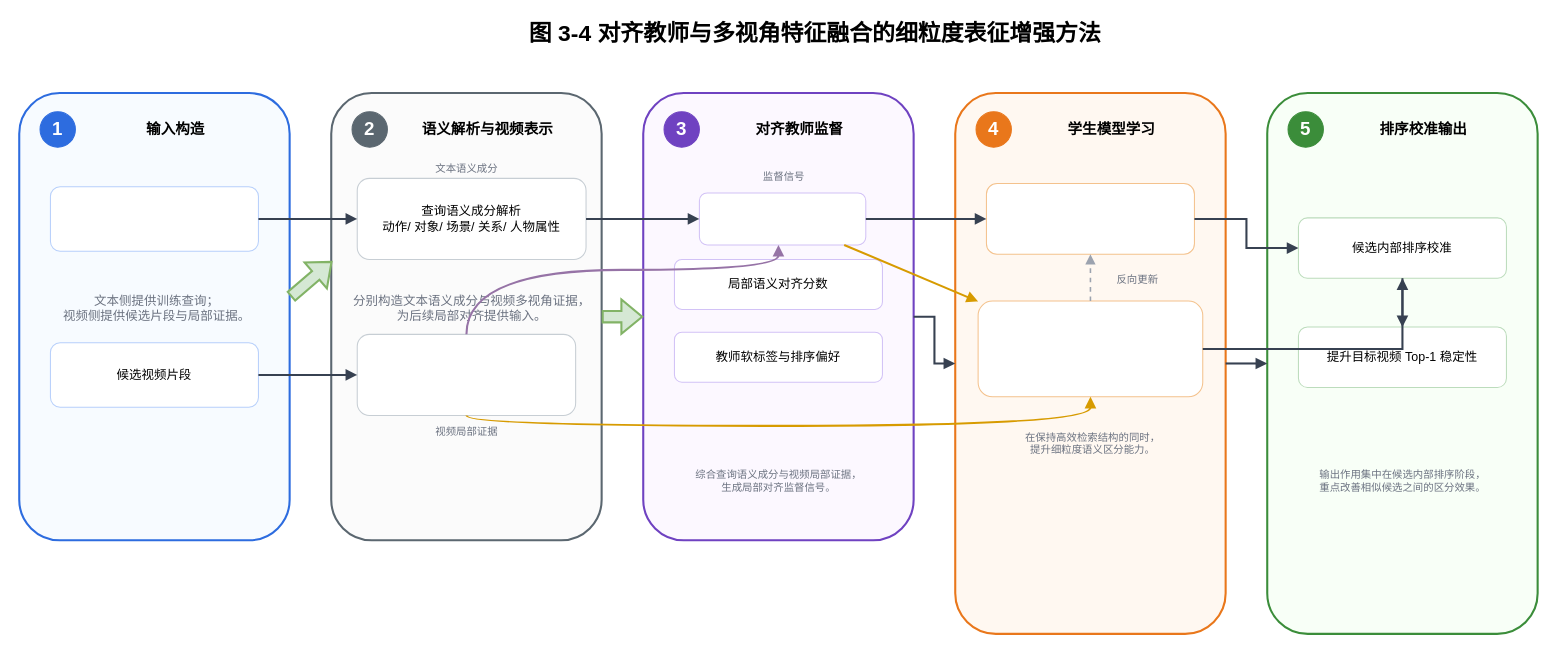
Image size: 1556x652. Some labels were removed from this diagram. Each missing label, with the centre of its shape:
"多视角视频表示 全局均值 / 局部片段 / 多时间窗" belongs at pixel 466 374.
"学生检索模型 残差适配器 / 表征校准" belongs at pixel 1089 218.
"对齐教师" belongs at pixel 782 218.
"联合训练目标 检索排序损失 + 教师蒸馏损失 + 局部对齐损失 + 表征保持损失" belongs at pixel 1090 348.
"训练查询文本描述" belongs at pixel 153 218.
